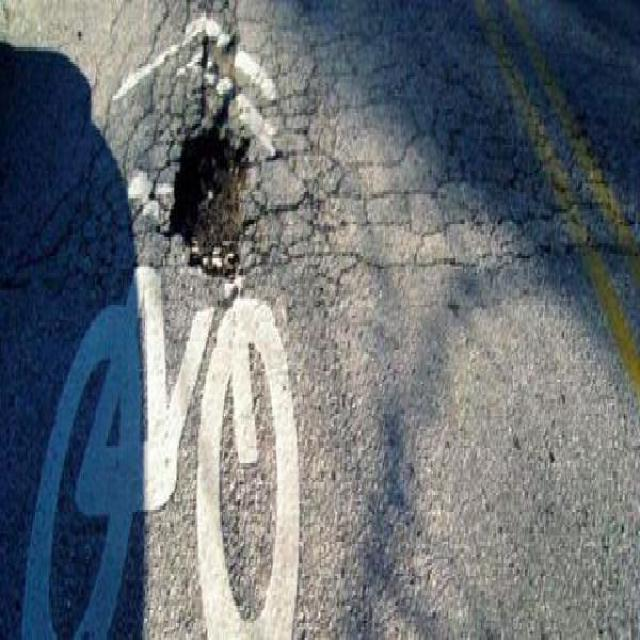Pothole: (165, 109, 262, 293)
